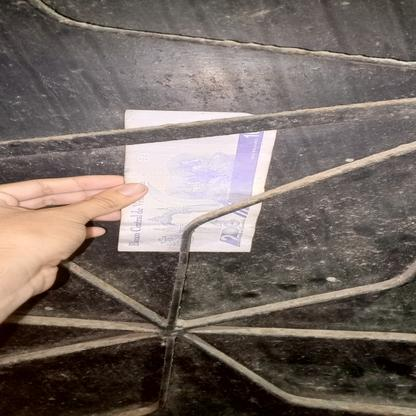ten-back-vef: (118, 110, 276, 252)
